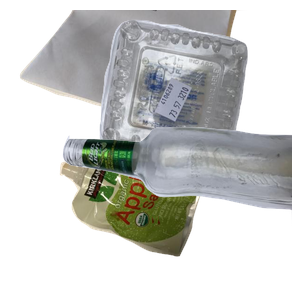glass: (60, 124, 300, 300)
paper: (17, 10, 254, 141)
plastic: (97, 17, 300, 176)
trash: (57, 137, 257, 300)
